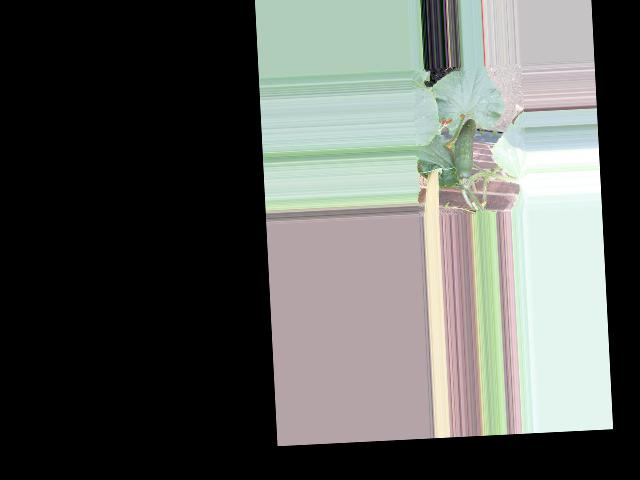cucumber: (452, 118, 479, 180)
